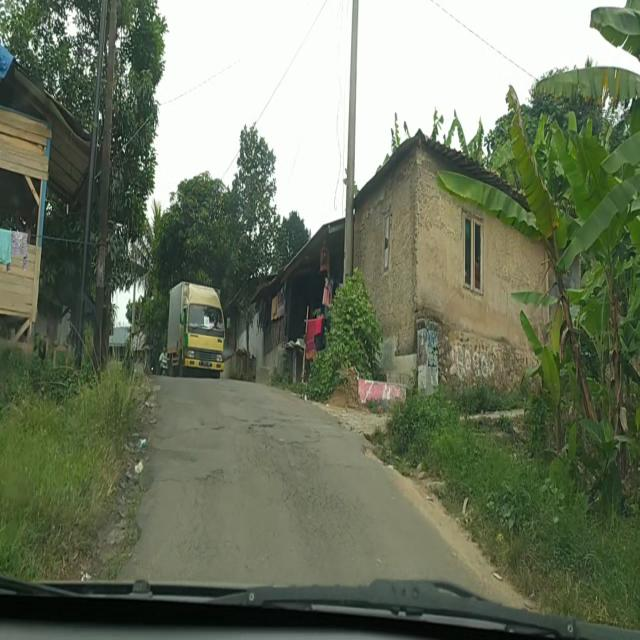Drain Hole: (242, 425, 358, 534), (173, 465, 231, 554)
